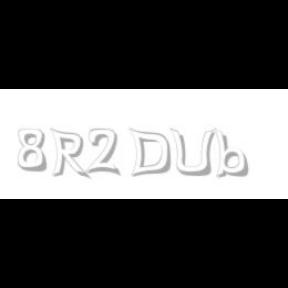2: (85, 128, 119, 176)
8: (17, 128, 46, 172)
D: (128, 128, 172, 178)
R: (50, 128, 88, 180)
U: (170, 128, 214, 178)
b: (214, 128, 252, 178)
